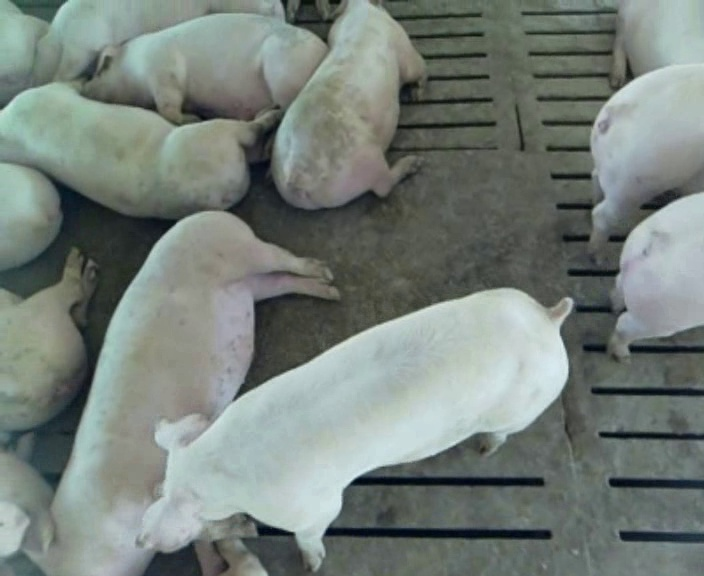pig: (139, 288, 571, 570), (0, 83, 280, 218), (271, 1, 425, 209), (82, 14, 327, 123), (589, 63, 703, 259), (32, 2, 283, 84), (0, 248, 97, 430), (608, 192, 703, 361), (610, 2, 703, 89)
